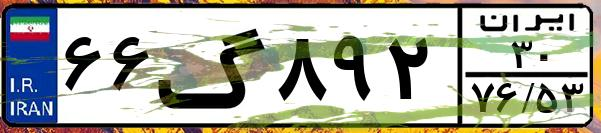0: (537, 27, 568, 80)
2: (385, 28, 445, 110)
3: (560, 70, 590, 125), (508, 27, 537, 80)
5: (535, 70, 560, 125)
6: (57, 26, 110, 100), (110, 28, 156, 98), (495, 70, 520, 125)
7: (470, 70, 495, 125)
8: (270, 28, 330, 110)
9: (330, 28, 385, 110)
گ: (156, 12, 270, 120)
